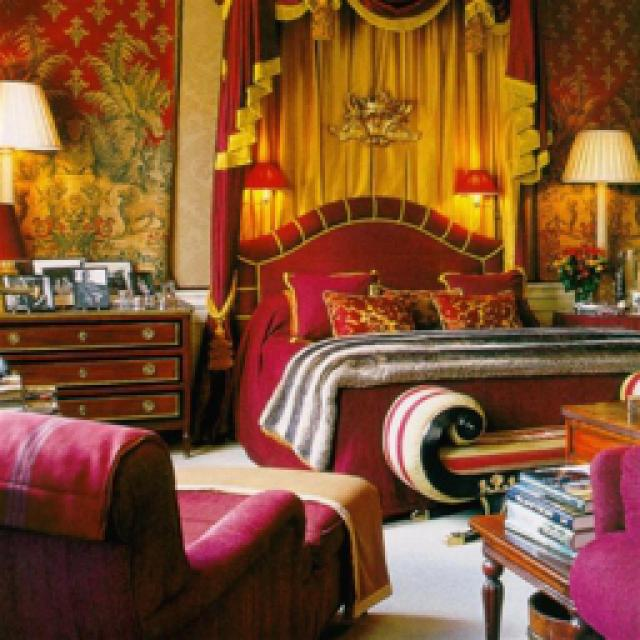armchair top: (565, 440, 638, 635)
bed -occluded-: (215, 195, 635, 518)
bench crop: (380, 372, 635, 532)
blanket: (252, 322, 630, 468), (175, 465, 388, 608)
books crop: (502, 465, 590, 572), (0, 370, 50, 408), (610, 245, 635, 308)
bouquet: (545, 245, 605, 305)
chaise lounge: (0, 406, 390, 635)
curtain crop: (195, 2, 552, 435)
dresser: (0, 308, 185, 448)
frame: (72, 265, 105, 302)
lamp crop: (558, 130, 638, 255), (0, 80, 60, 200), (240, 160, 290, 198), (450, 168, 498, 202)
night stand: (548, 302, 635, 332)
picture occluded: (28, 252, 80, 302), (2, 272, 50, 308), (85, 260, 130, 298), (122, 268, 150, 295)
pillow occluded: (285, 270, 375, 335), (440, 270, 538, 322), (328, 290, 410, 330), (428, 290, 518, 325)
small table part: (470, 510, 568, 635)
